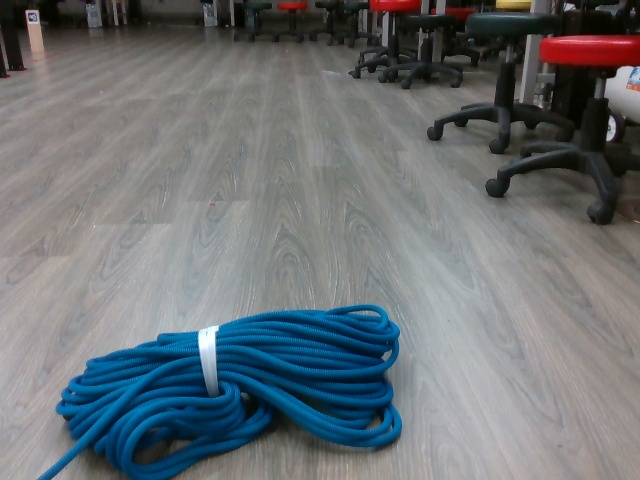rope: (58, 302, 400, 480)
